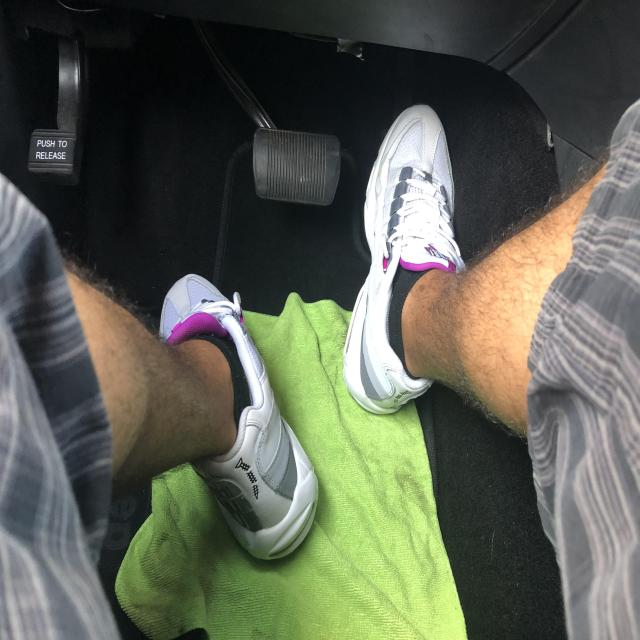shoe: (152, 272, 321, 564), (344, 103, 466, 417)
